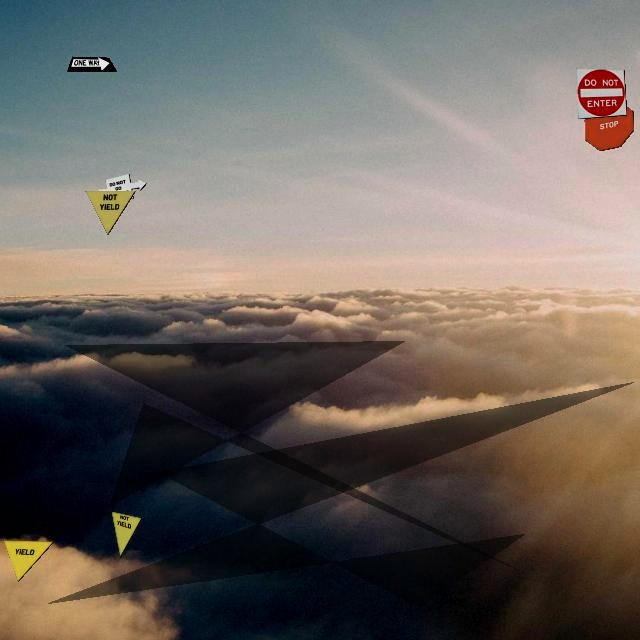DO_NOT_ENTER: (576, 68, 627, 119)
DO_NOT_GO_AROUND: (96, 173, 147, 202)
NOT_YIELD: (85, 190, 136, 235), (111, 511, 142, 558)
ONE_WAY_ right: (66, 56, 117, 72)
STOP: (584, 100, 634, 151)
YIELD: (3, 540, 54, 582)
